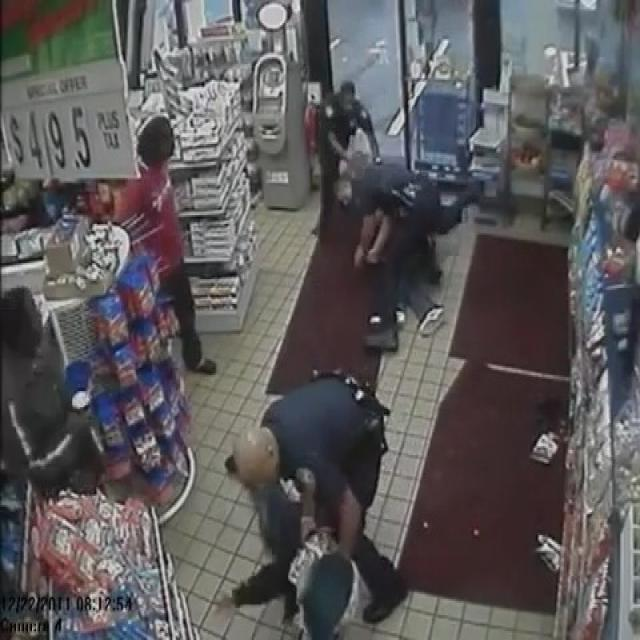fight: (154, 309, 440, 640), (304, 84, 495, 362)
